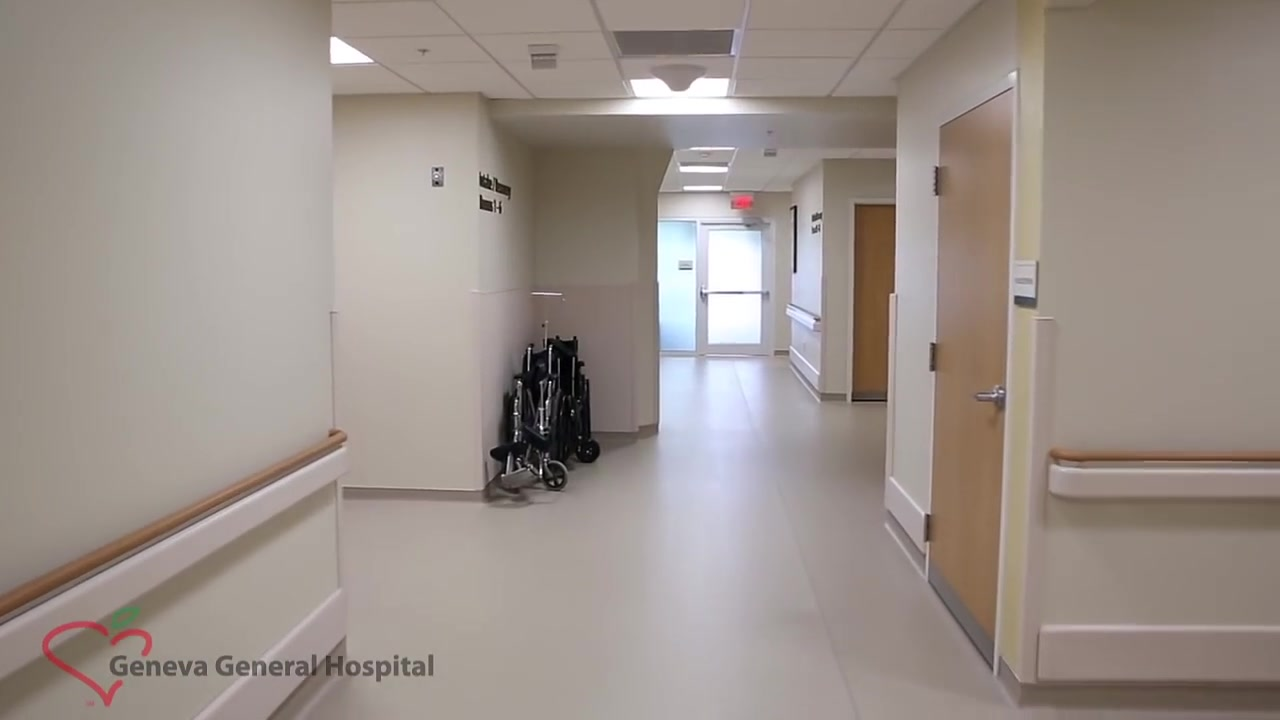door_handle: (973, 389, 1004, 404)
hallway_assist_bar: (1, 429, 354, 720), (1049, 441, 1280, 510), (785, 298, 822, 335)
iv_pole: (525, 292, 568, 349)
push_latch: (700, 282, 763, 300)
wheel_chair: (501, 343, 600, 491)
